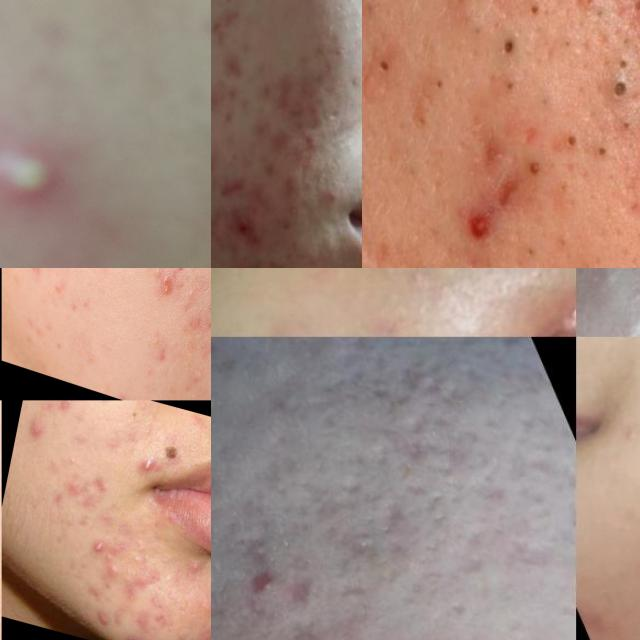acne_scars: (380, 392, 457, 478), (321, 507, 386, 578), (458, 446, 514, 516), (364, 481, 420, 539), (444, 352, 495, 409), (548, 484, 576, 548), (278, 572, 321, 612), (278, 614, 339, 640), (211, 2, 240, 49), (211, 178, 240, 207), (216, 57, 246, 81), (218, 256, 260, 268)
comedone: (593, 64, 640, 159), (532, 120, 617, 170), (239, 561, 290, 607), (491, 18, 525, 78), (418, 60, 460, 103), (365, 47, 398, 93), (616, 268, 640, 328), (128, 534, 158, 576), (439, 0, 487, 26), (332, 134, 352, 181), (338, 10, 362, 48), (397, 256, 449, 268), (58, 449, 82, 475), (320, 27, 338, 52), (188, 627, 211, 640)
papule: (263, 62, 338, 140), (449, 192, 504, 260), (223, 198, 262, 248), (277, 170, 305, 202), (300, 246, 323, 268), (322, 184, 343, 207), (261, 157, 280, 178), (211, 142, 219, 188)
pustule: (131, 450, 162, 489), (21, 412, 48, 450), (86, 533, 115, 568), (131, 570, 151, 591), (185, 552, 197, 580)
sebo-crystan-conglo: (154, 268, 178, 310), (85, 603, 116, 634), (121, 632, 160, 640)
